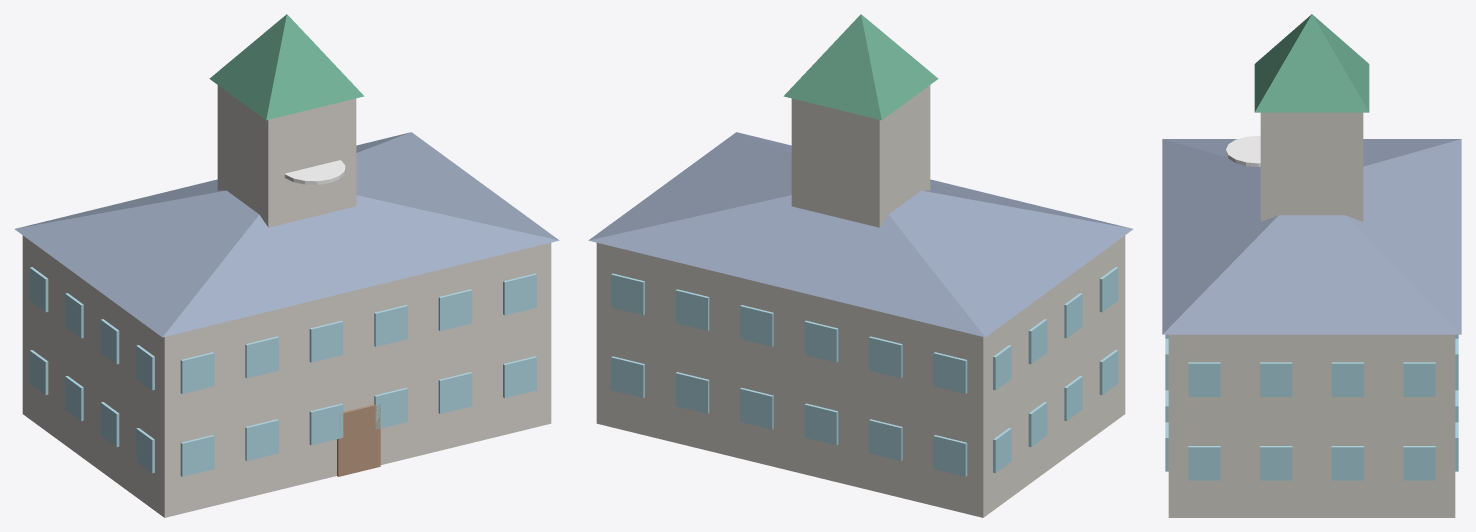
Rendered from town_hall.glb.
3 views of the same model, side by side, from view 1: azimuth 30°, elevation 25°; view 2: azimuth 150°, elevation 25°; view 3: azimuth 270°, elevation 25° (orthographic).
Parts seen in each view (by area): view 1: town_hall_stone, town_hall_roof_slate, town_hall_window, town_hall_pub_green, town_hall_door, town_hall_white; view 2: town_hall_stone, town_hall_roof_slate, town_hall_window, town_hall_pub_green; view 3: town_hall_stone, town_hall_roof_slate, town_hall_window, town_hall_pub_green, town_hall_white.
Part boxes in pixels (<box>): town_hall_stone: <box>22,85,551,517</box>; town_hall_roof_slate: <box>14,132,559,337</box>; town_hall_window: <box>29,267,536,476</box>; town_hall_pub_green: <box>209,14,364,120</box>; town_hall_door: <box>337,404,380,476</box>; town_hall_white: <box>284,160,345,184</box>; town_hall_stone: <box>596,85,1125,517</box>; town_hall_roof_slate: <box>588,132,1133,337</box>; town_hall_window: <box>611,267,1118,476</box>; town_hall_pub_green: <box>783,14,938,120</box>; town_hall_stone: <box>1168,112,1455,517</box>; town_hall_roof_slate: <box>1162,139,1461,334</box>; town_hall_window: <box>1165,334,1458,480</box>; town_hall_pub_green: <box>1254,14,1369,112</box>; town_hall_white: <box>1226,135,1260,167</box>.
Size of the model in its own units: 22.6 by 22 by 14.6.
